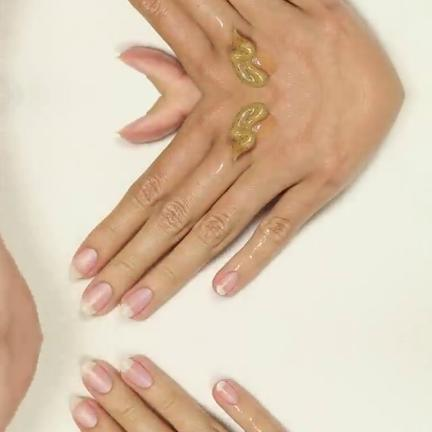Nail: (81, 282, 112, 314), (81, 360, 112, 392), (119, 287, 153, 316), (119, 358, 153, 387), (68, 247, 98, 279), (68, 395, 98, 427), (216, 270, 238, 294), (216, 380, 238, 404)
